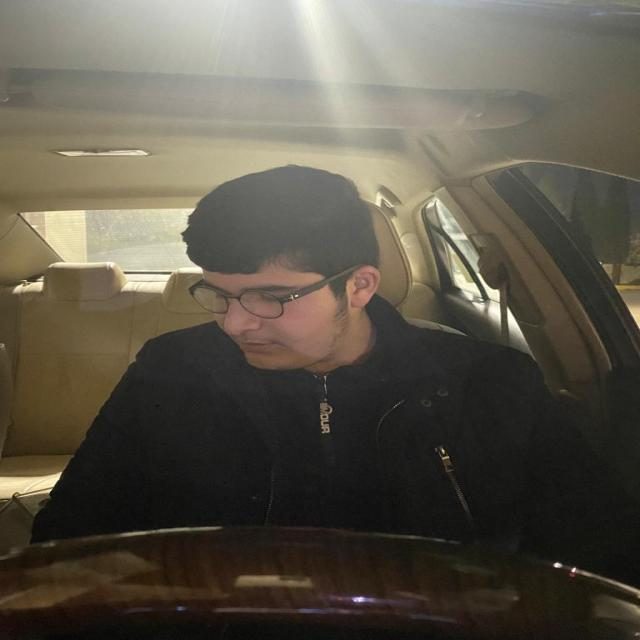drowsy: (175, 159, 387, 380)
